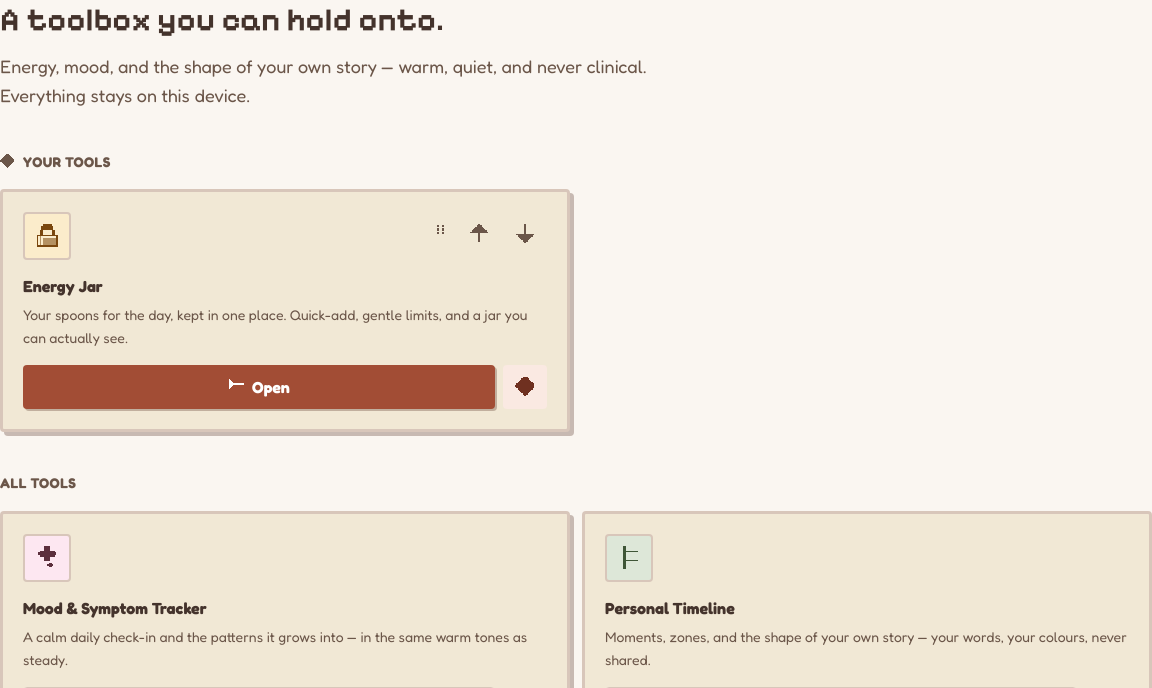
Scenario: HubHome › shows the empty state when nothing is pinned
The width and height of the screenshot is (1152, 688).
Expected: the heading "Mood & Symptom Tracker" is shown, 23,598 -> 207,618
Click the button named "Unpin Energy Jar from home": click(525, 387) 503,365 -> 547,409
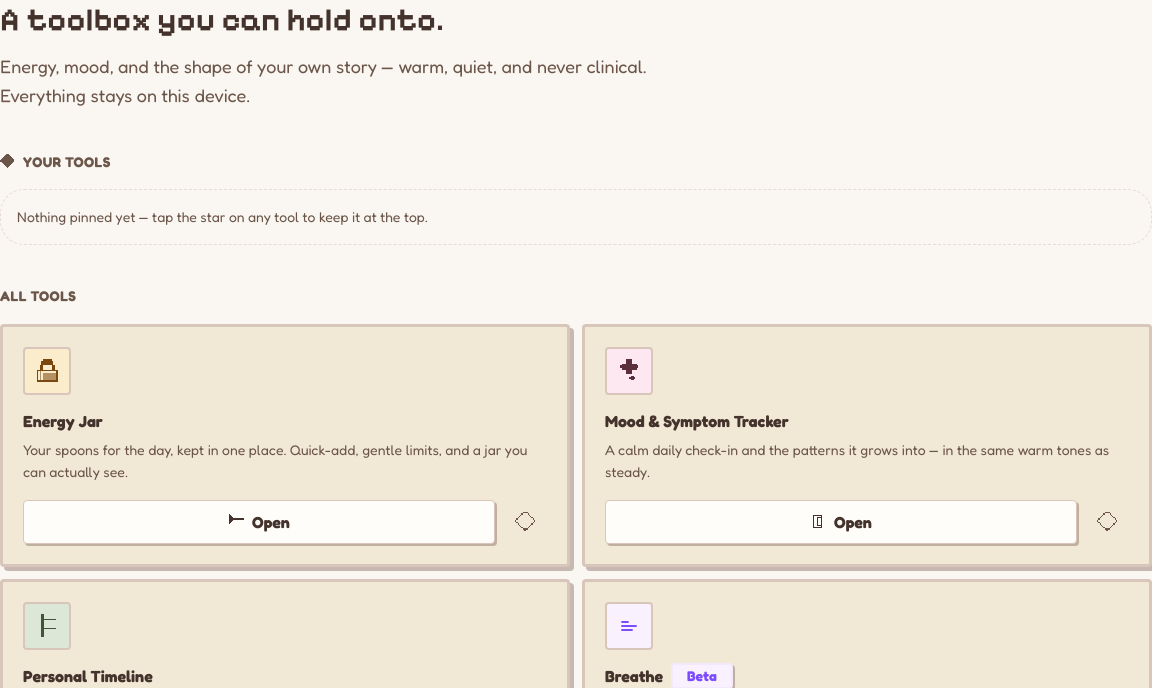
Now the text "Nothing pinned yet — tap the star on any tool to keep it at the top." is shown, box 0,189 -> 1151,245
